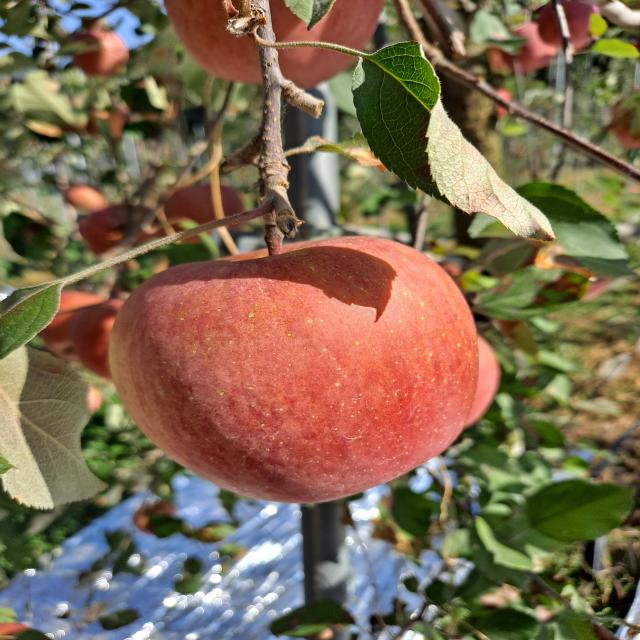fresh: (100, 227, 496, 512)
